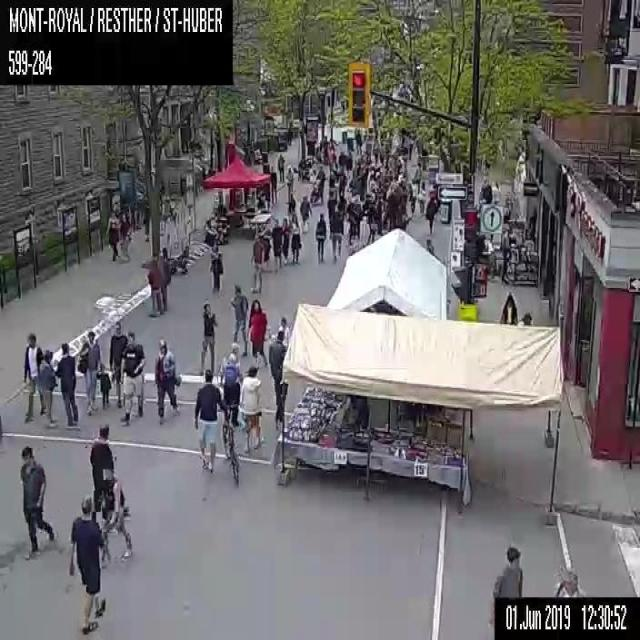pedestrian: (68, 495, 110, 636), (194, 371, 239, 486), (20, 445, 54, 554), (96, 464, 132, 563), (484, 545, 524, 628), (90, 424, 116, 515), (154, 338, 181, 424), (120, 330, 144, 424), (54, 341, 79, 430), (22, 332, 46, 424), (239, 364, 264, 448), (218, 342, 242, 428), (76, 330, 100, 416), (268, 328, 287, 429), (38, 348, 58, 427), (108, 321, 126, 406), (228, 283, 248, 356), (246, 299, 268, 365), (198, 297, 217, 373), (553, 569, 585, 596), (250, 233, 264, 294), (148, 258, 162, 314), (157, 251, 170, 310), (95, 364, 111, 409), (329, 211, 343, 260), (105, 211, 119, 260), (208, 247, 223, 290), (257, 222, 271, 268), (310, 165, 326, 204), (119, 211, 132, 259), (314, 212, 326, 263), (271, 218, 282, 271), (290, 213, 301, 264), (501, 291, 517, 324), (501, 228, 510, 283), (300, 194, 312, 232), (424, 196, 436, 233), (281, 216, 290, 264), (366, 204, 377, 243), (478, 177, 492, 203), (284, 164, 293, 203), (276, 316, 289, 343), (336, 166, 346, 200), (142, 193, 149, 240), (327, 189, 336, 225), (411, 161, 421, 193), (408, 178, 416, 215), (270, 164, 276, 207), (276, 153, 285, 181), (418, 180, 425, 214), (327, 137, 335, 166), (354, 126, 362, 154), (492, 179, 501, 203), (517, 312, 533, 324), (372, 137, 379, 164), (364, 137, 371, 162), (322, 135, 328, 163), (289, 192, 296, 213)
